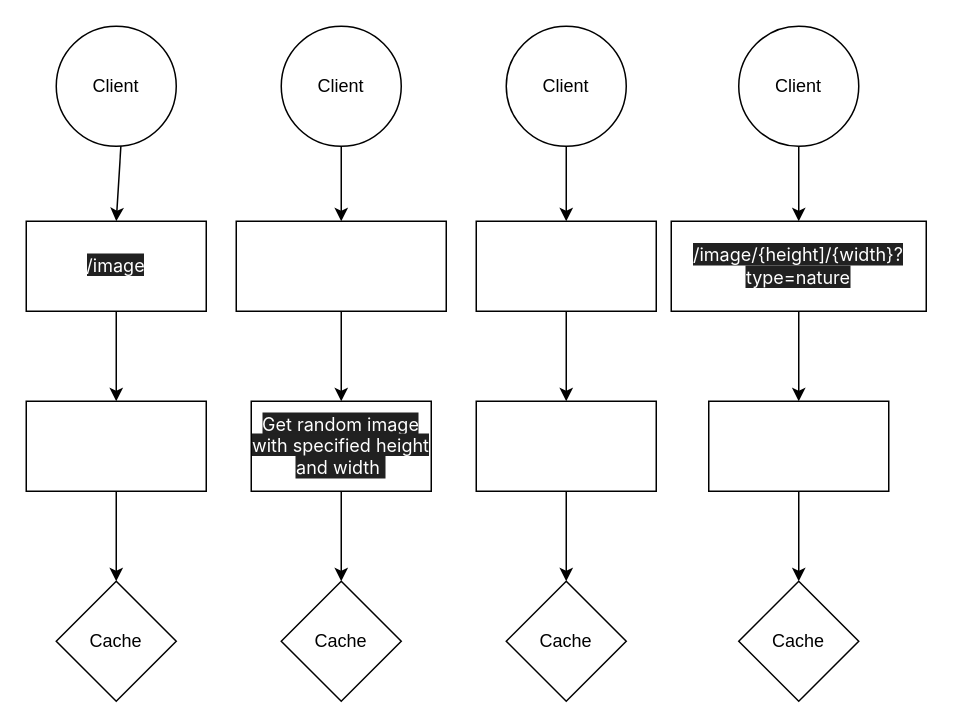
Some shapes in this 953 by 728 pixel diagram are drawn without their labels. Each missing label, with the centre of its shape:
/image/{height}/{width}: the point at 340,265
/image?type=nature: the point at 565,265
Get random 500x500 image: the point at 115,445
Get random 500x500 image with the type nature: the point at 565,445
Get random nature image with specified height and width: the point at 798,445
